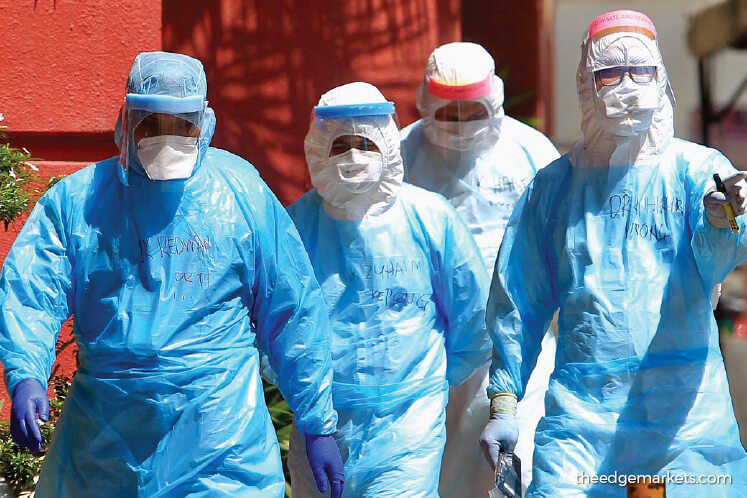Coverall: (4, 52, 315, 498), (494, 10, 747, 498), (279, 79, 485, 498), (393, 42, 563, 191)
Gloves: (6, 379, 52, 459), (303, 429, 348, 498), (478, 397, 518, 472)
with_mask: (594, 60, 663, 134), (135, 115, 198, 182), (327, 134, 388, 198), (436, 120, 497, 157)
